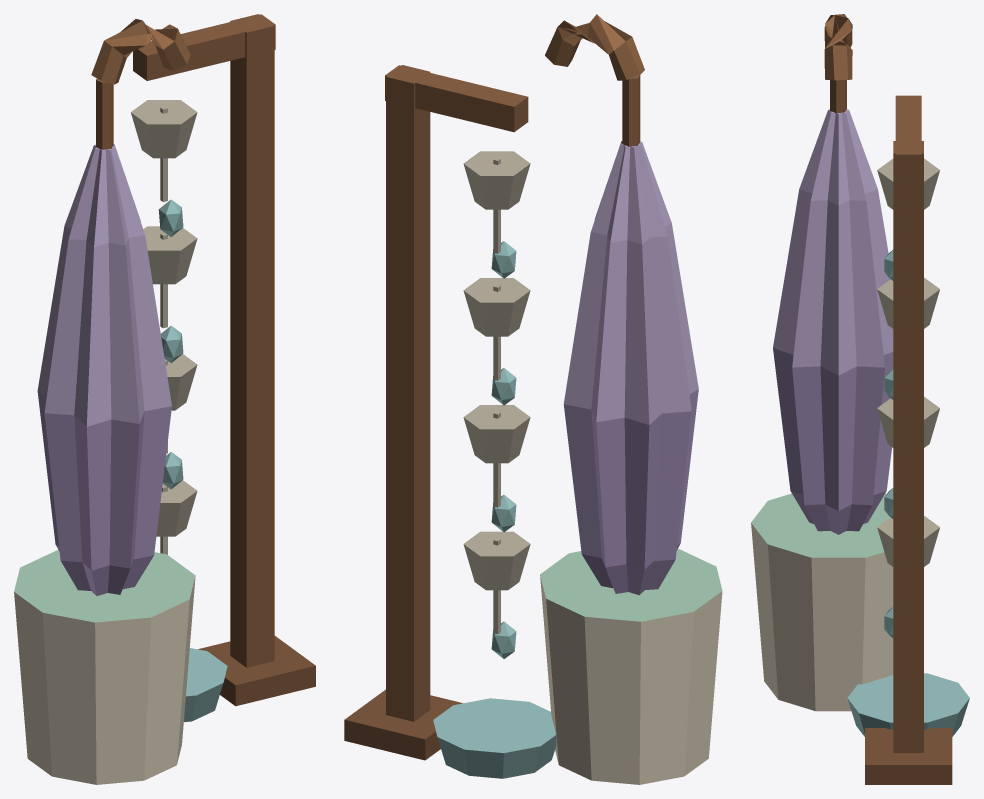
File: Kit_Calm_Hint_RainUmbrella.glb
3 views of the same model, side by side, from view 1: azimuth 30°, elevation 25°; view 2: azimuth 150°, elevation 25°; view 3: azimuth 270°, elevation 25° (orthographic). The views are drawn at different scales.
Visible parts, largest first — view 1: EX_HintUmbrella_Fabric, EX_HintUmbrella_Stone, EX_HintUmbrella_Wood, EX_HintUmbrella_Water; view 2: EX_HintUmbrella_Stone, EX_HintUmbrella_Fabric, EX_HintUmbrella_Wood, EX_HintUmbrella_Water; view 3: EX_HintUmbrella_Fabric, EX_HintUmbrella_Stone, EX_HintUmbrella_Wood, EX_HintUmbrella_Water.
Part boxes in pixels (x1,y1,x2,y2): EX_HintUmbrella_Fabric: (37,144,171,595); EX_HintUmbrella_Stone: (14,100,197,784); EX_HintUmbrella_Wood: (91,14,315,706); EX_HintUmbrella_Water: (158,199,227,722); EX_HintUmbrella_Stone: (463,151,722,784); EX_HintUmbrella_Fabric: (563,141,698,595); EX_HintUmbrella_Wood: (344,14,644,760); EX_HintUmbrella_Water: (433,241,556,778); EX_HintUmbrella_Fabric: (773,109,893,534); EX_HintUmbrella_Stone: (751,158,939,711); EX_HintUmbrella_Wood: (824,14,952,784); EX_HintUmbrella_Water: (847,250,969,736).
Size of the model in its own units: 0.5627 by 1.29 by 0.375.
